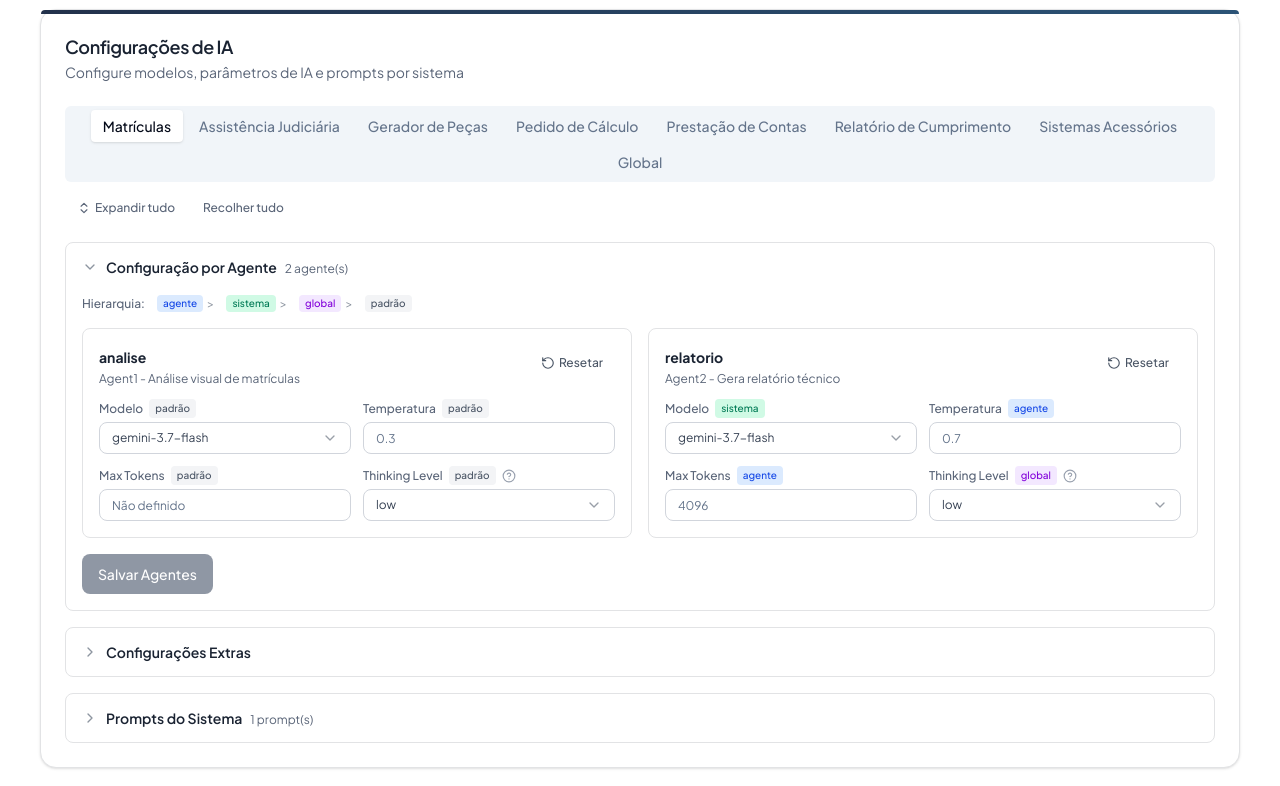
Test case: PromptsPage › deve carregar e exibir prompts na seção de Prompts
(page scrolled)
// Expandir seção de Prompts
Click the button "Prompts do Sistema1 prompt(s)" at (174, 718), box [66, 694, 1214, 742]
(page scrolled)
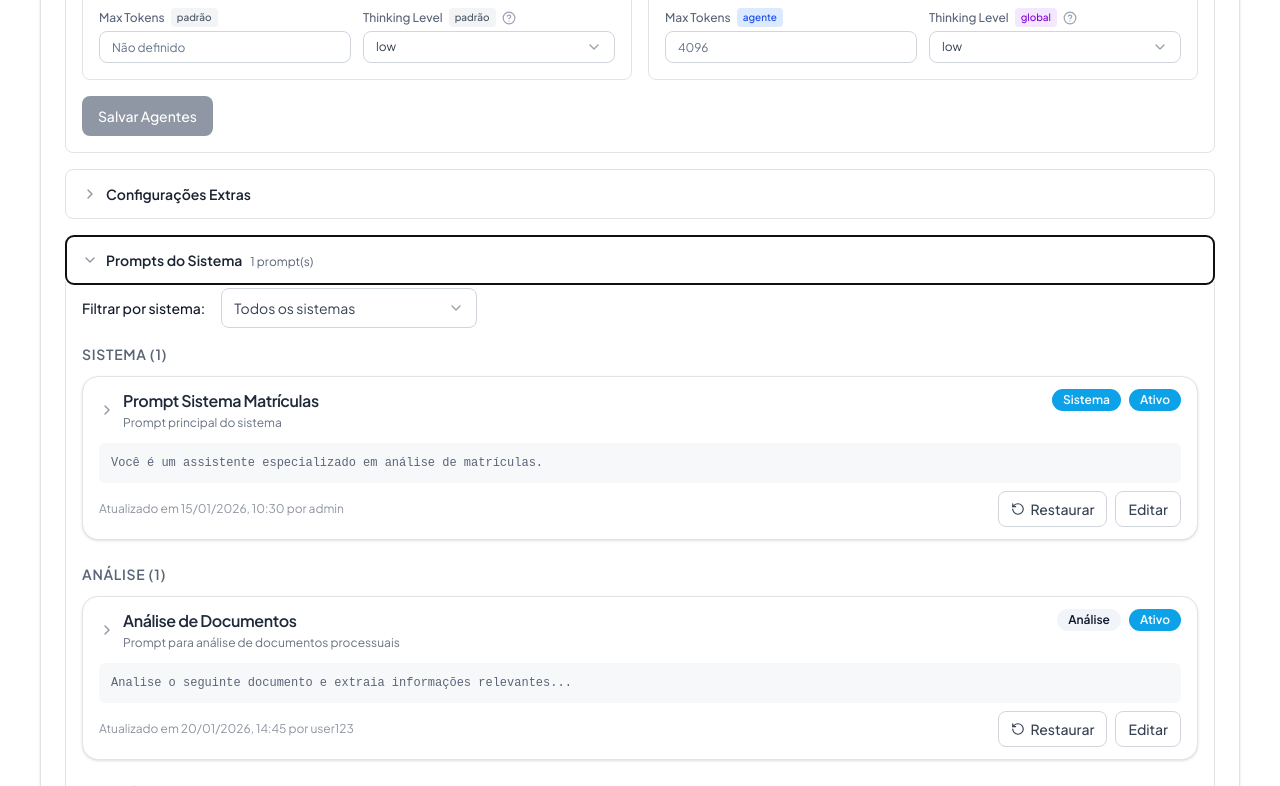
Expected: the heading "Prompt Sistema Matrículas" is shown, [123, 389, 319, 413]
Expected: the text "Sistema" is shown, [1052, 389, 1121, 411]
